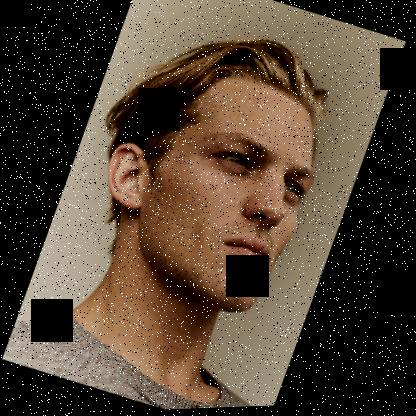Male: (70, 37, 344, 335)
